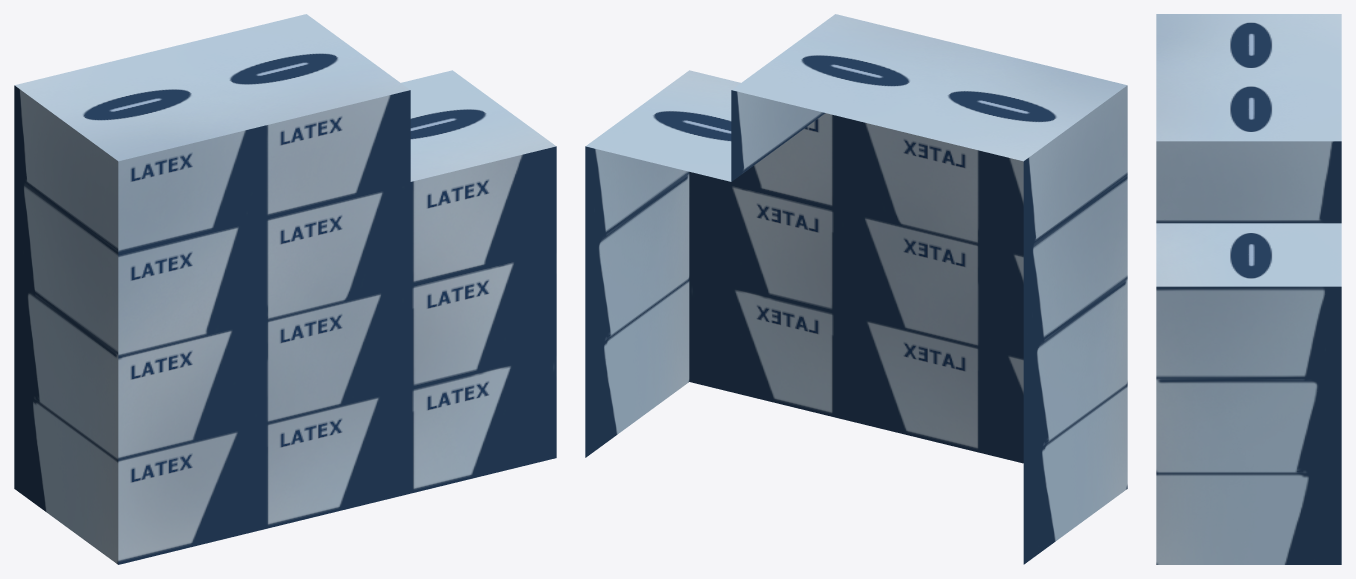
The model's file is SM_dummy.FBX.
3 views of the same model, side by side, from view 1: azimuth 30°, elevation 25°; view 2: azimuth 150°, elevation 25°; view 3: azimuth 270°, elevation 25° (orthographic). The views are drawn at different scales.
Visible parts, largest first — view 1: dummy; view 2: dummy; view 3: dummy.
Boxes of the visible parts, x1,y1,x2,y2 form: dummy: (14, 14, 556, 564); dummy: (585, 14, 1127, 564); dummy: (1156, 14, 1341, 564).
Size of the model in its own units: 267 by 235 by 110.
Materials: 1 (1 with a texture image).
